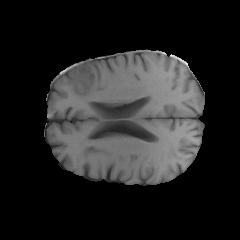glioma: (57, 62, 107, 113)
